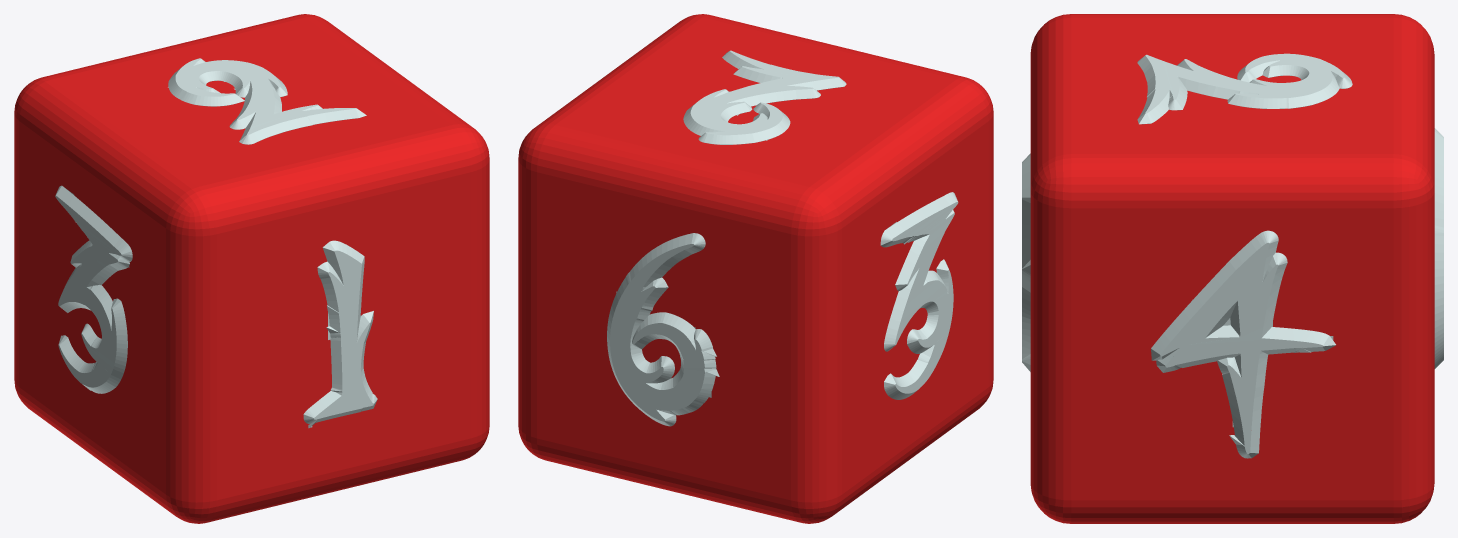
Rendered from D6_3D_Red.glb.
3 views of the same model, side by side, from view 1: azimuth 30°, elevation 25°; view 2: azimuth 150°, elevation 25°; view 3: azimuth 270°, elevation 25° (orthographic). The views are drawn at different scales.
Visible parts, largest first — view 1: d6; view 2: d6; view 3: d6.
Boxes of the visible parts, x1,y1,x2,y2 form: d6: (14, 14, 489, 523); d6: (518, 14, 993, 523); d6: (1022, 14, 1443, 523).
Size of the model in its own units: 1.45 by 1.44 by 1.44.
